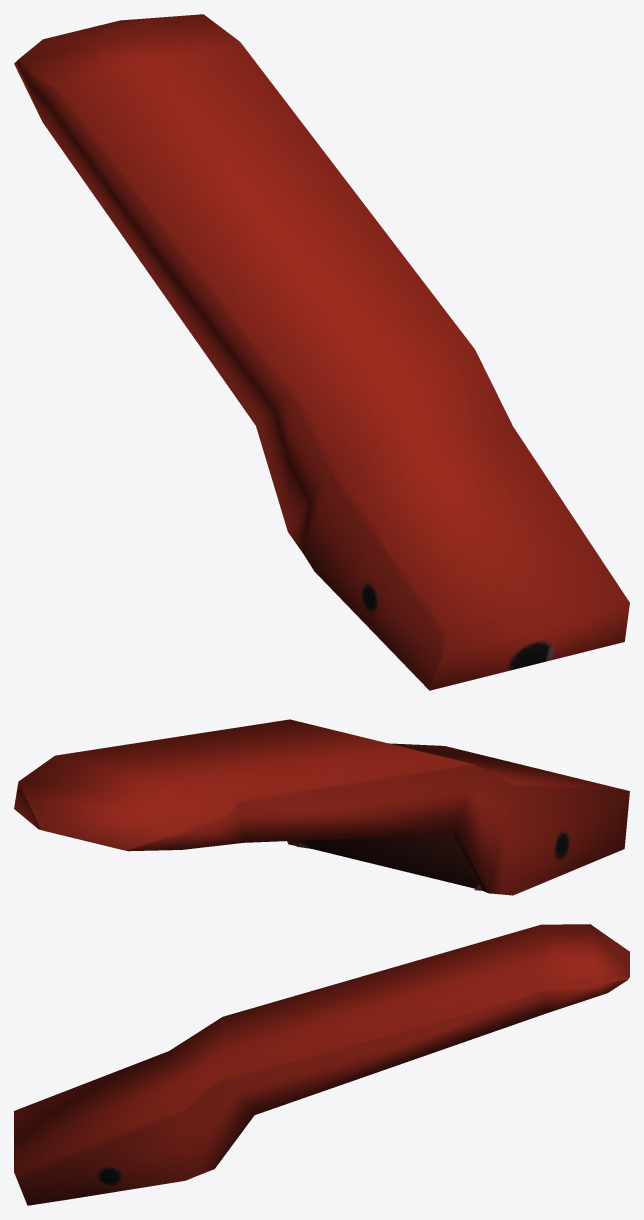
Rendered from extintor_gatillo.fbx.
3 views of the same model, one above another, from view 1: azimuth 30°, elevation 25°; view 2: azimuth 150°, elevation 25°; view 3: azimuth 270°, elevation 25° (orthographic). The views are drawn at different scales.
Parts seen in each view (by area): view 1: fire_extinguisher_c02; view 2: fire_extinguisher_c02; view 3: fire_extinguisher_c02.
Part boxes in pixels (left/top/right/bottom): fire_extinguisher_c02: left=14, top=14, right=629, bottom=690; fire_extinguisher_c02: left=14, top=719, right=629, bottom=895; fire_extinguisher_c02: left=14, top=924, right=629, bottom=1205.
Size of the model in its own units: 4.97 by 7.71 by 19.55.
1 material, 1 textured.
